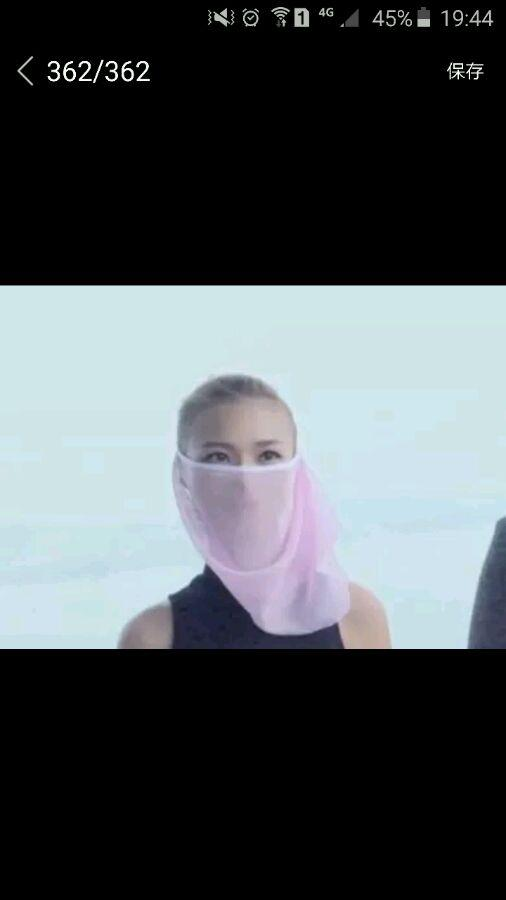OK: (182, 431, 288, 537)
